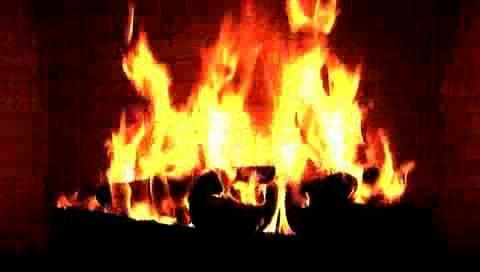fire: (102, 11, 400, 225)
